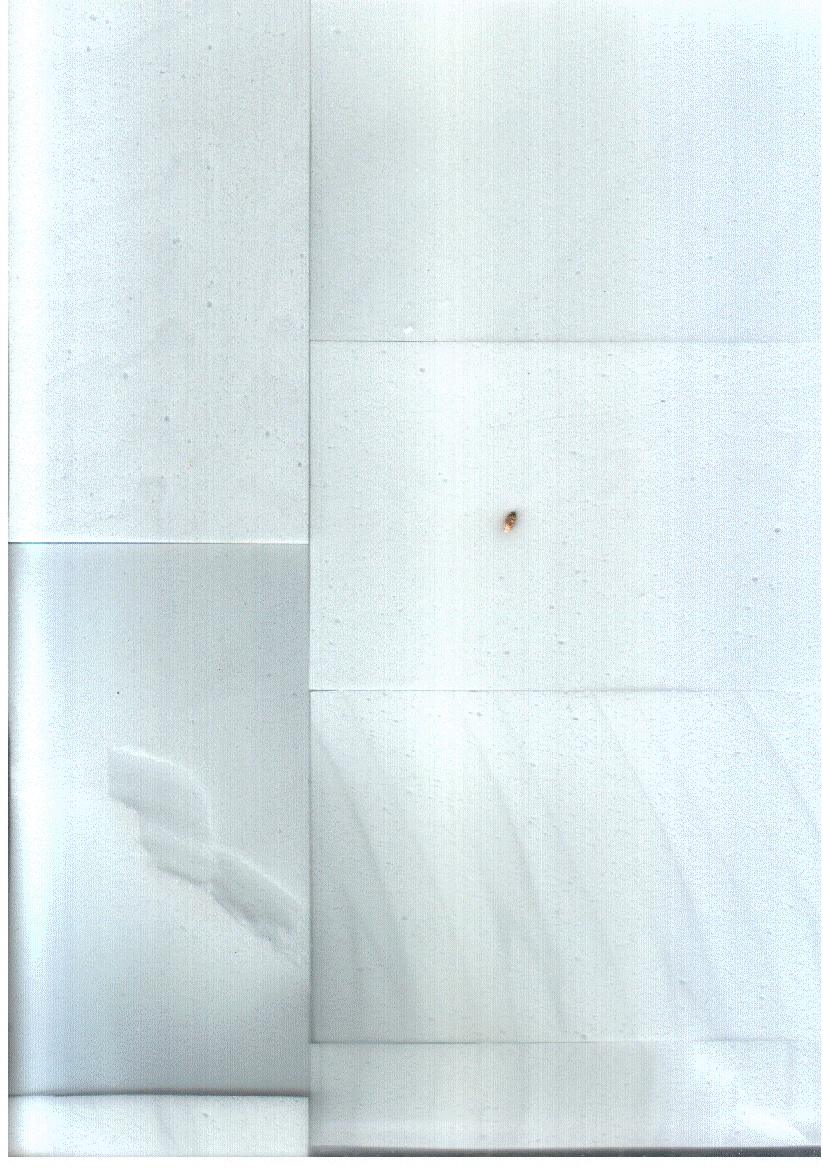grains: (490, 494, 532, 549)
